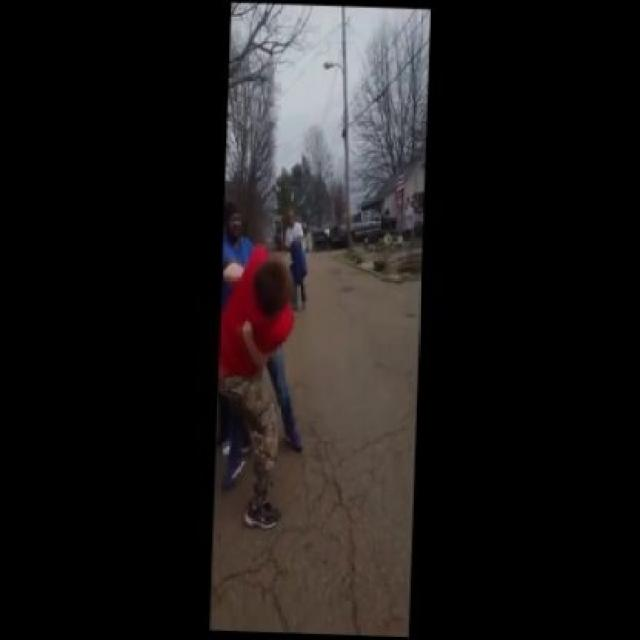fight: (209, 243, 298, 538)
non-fight: (274, 215, 317, 312)
